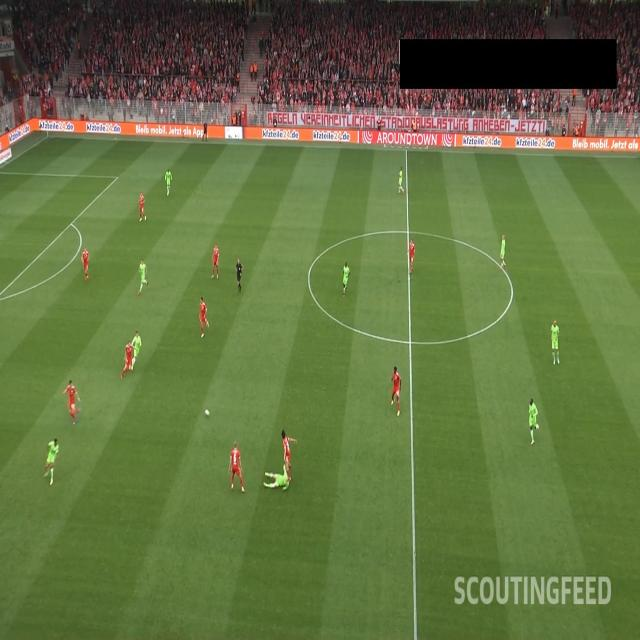ball: (204, 407, 210, 418)
